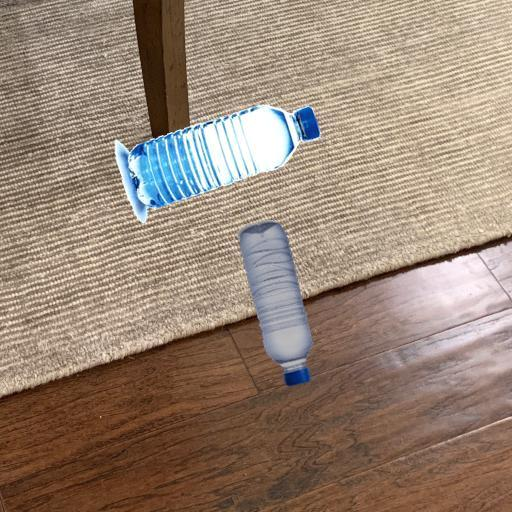bottle: (100, 100, 335, 224), (223, 221, 331, 390)
